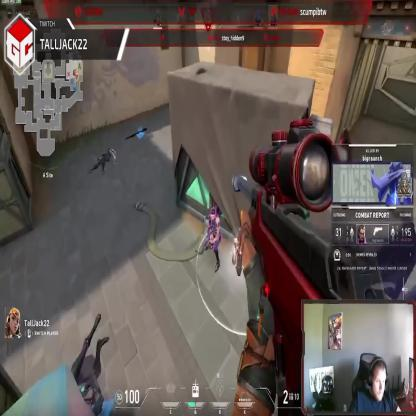enemy: (206, 204, 222, 272)
enemy_head: (210, 208, 216, 222)
